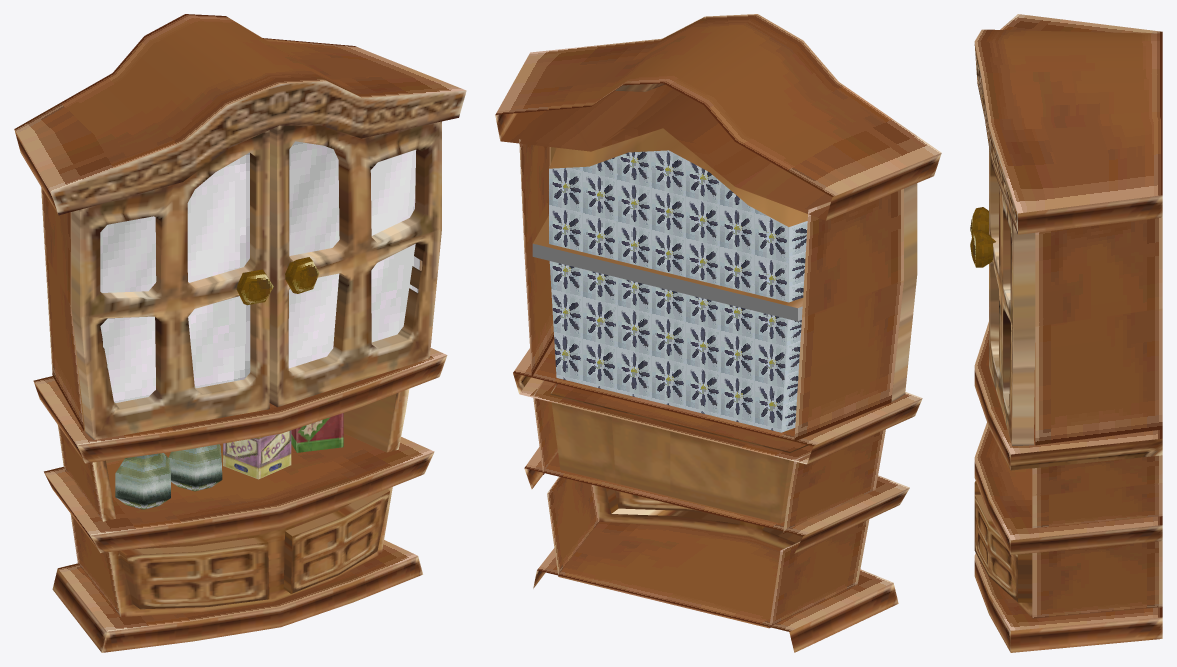
The model's file is stana.glb.
3 views of the same model, side by side, from view 1: azimuth 30°, elevation 25°; view 2: azimuth 150°, elevation 25°; view 3: azimuth 270°, elevation 25° (orthographic).
Parts seen in each view (by area): view 1: stana; view 2: stana; view 3: stana.
Part boxes in pixels (x1,y1,x2,y2): stana: [14, 14, 466, 652]; stana: [495, 14, 941, 652]; stana: [970, 14, 1162, 652].
Bounding box in the file's own units: 326 × 407 × 133.
12 materials, 11 textured.
